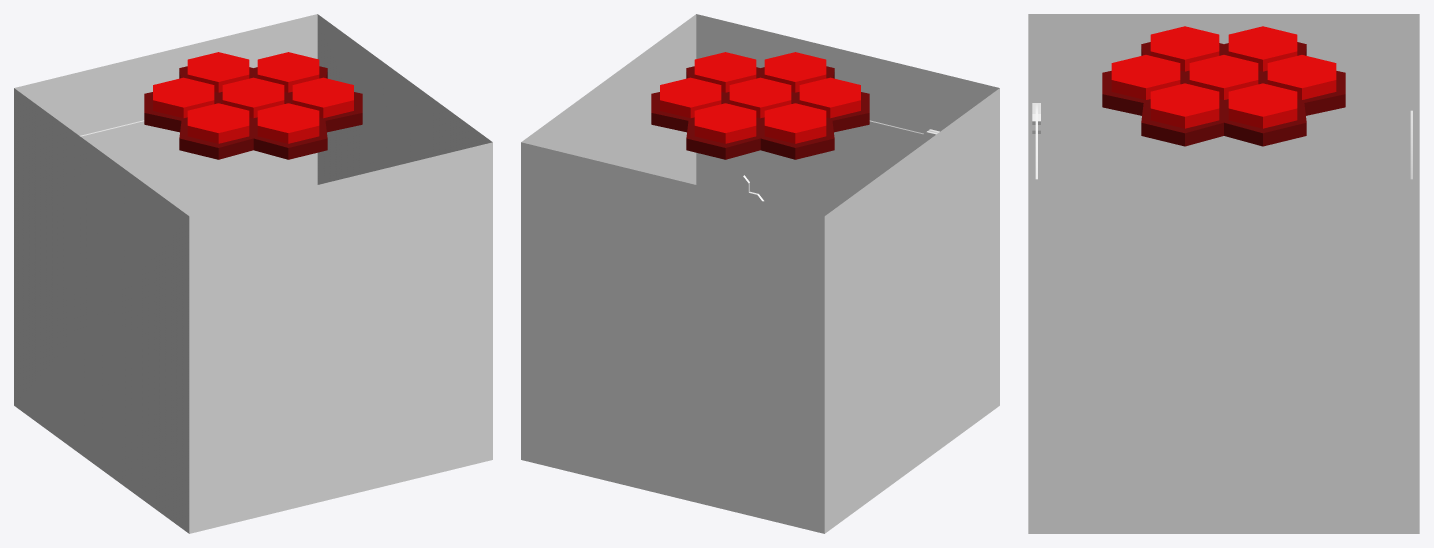
Rendered from ShieldRoom.fbx.
3 renders of one model, left to right at view 1: azimuth 30°, elevation 25°; view 2: azimuth 150°, elevation 25°; view 3: azimuth 270°, elevation 25°, orthographic. The views are drawn at different scales.
Visible parts, largest first — view 1: ShieldRoom; view 2: ShieldRoom; view 3: ShieldRoom.
Part boxes in pixels (x1,y1,x2,y2): ShieldRoom: (14, 14, 492, 533); ShieldRoom: (521, 14, 999, 533); ShieldRoom: (1028, 14, 1419, 533).
Bounding box in the file's own units: 197 × 211 × 197.
